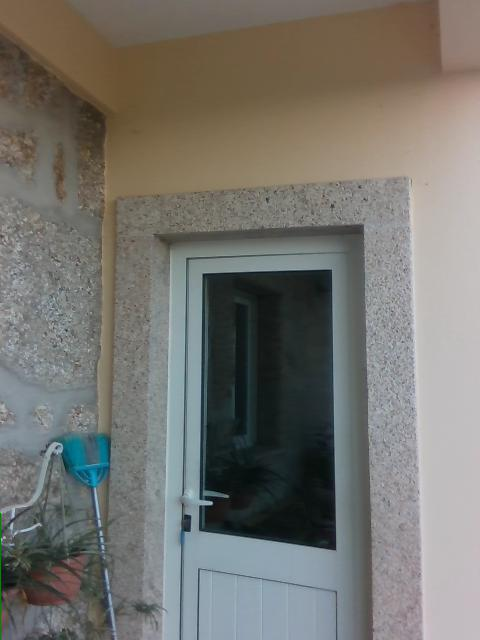door: (161, 231, 366, 637)
